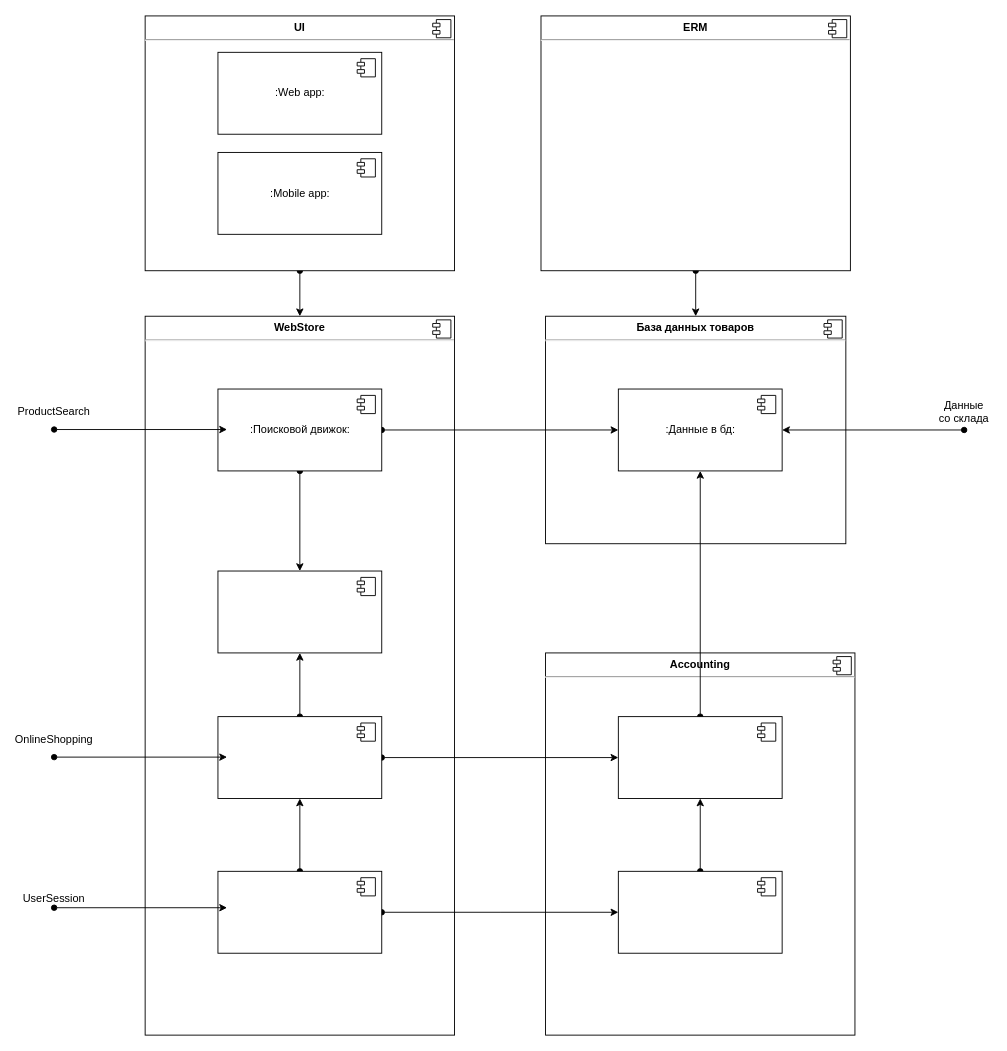
Some shapes in this 1007 by 1051 pixel diagram are drawn without their labels. The centre of each missing label's shape, as x and y in pixels:
":Аккаунт Покупателя:" belongs at pixel 699 911.
":Аутентификация:" belongs at pixel 299 911.
":Заказы:" belongs at pixel 699 757.
":Корзина:" belongs at pixel 299 757.
":Система рекомендаций:" belongs at pixel 299 611.
